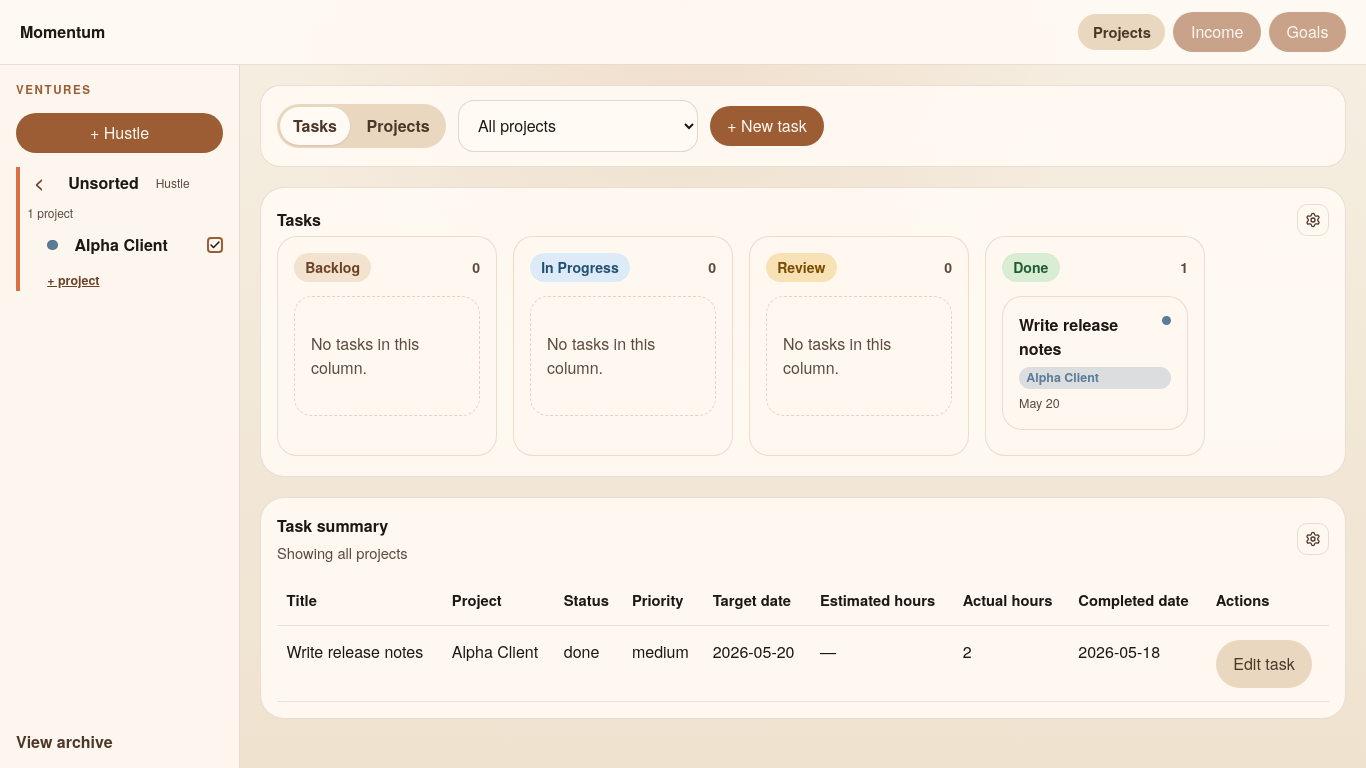
Test: Ticket 1b-8 owner UI polish › expanded time log with no notes shows muted No notes placeholder
The image size is (1366, 768).
What coordinates should you click on to do the following:
click the button "Edit task"
I would click on:
 (1264, 664)
Its box is [1216,640,1312,688].
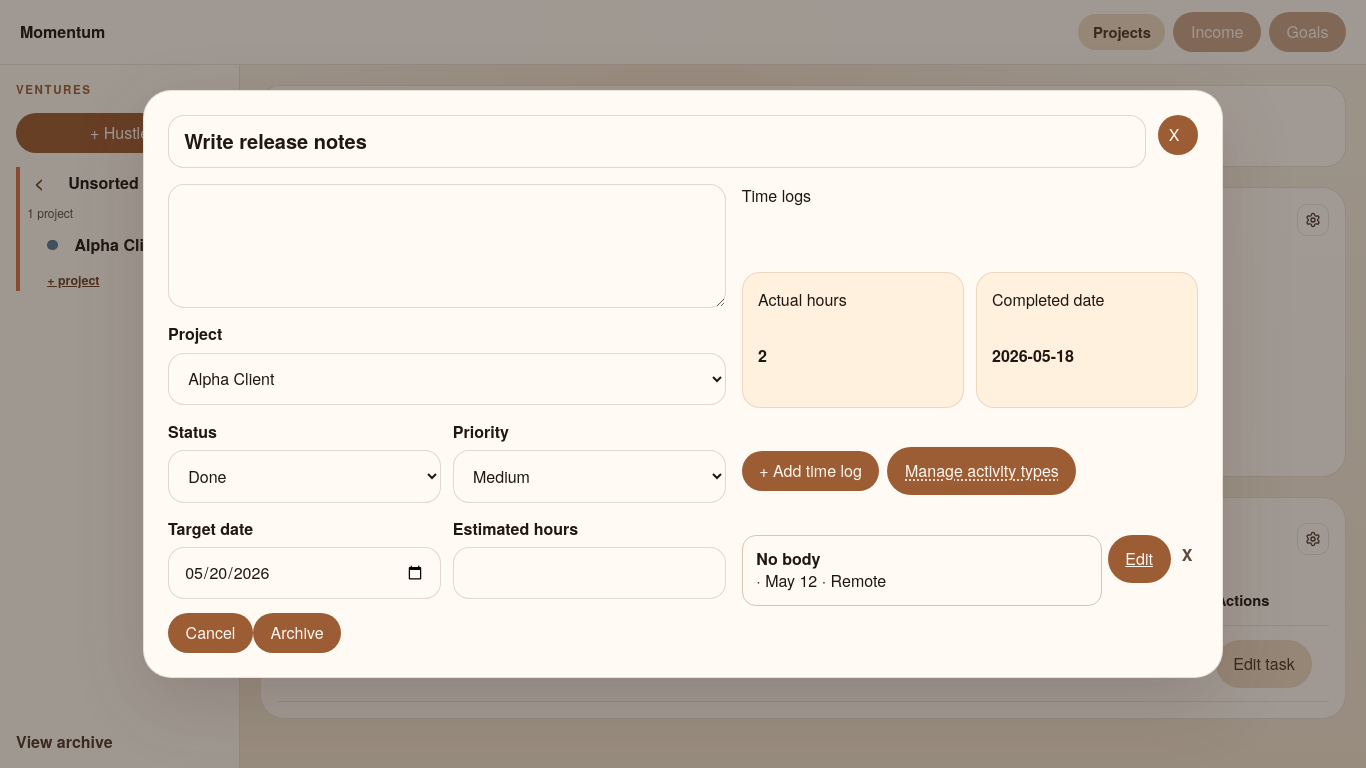
What coordinates should you click on to do the following:
click the button with test id "time-log-row-log-empty-notes"
I would click on:
 (788, 559)
Its box is [742,535,1102,606].
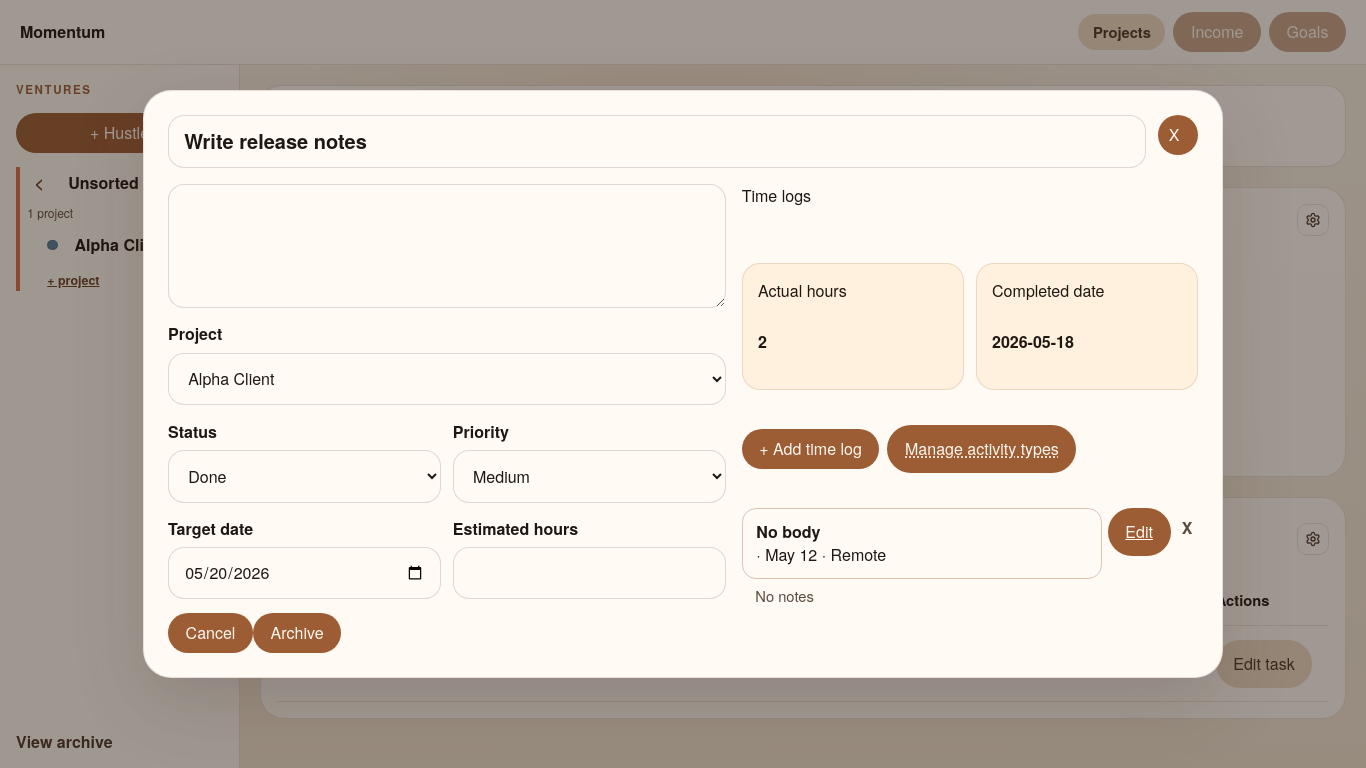
Expected: the text with test id "time-log-detail-log-empty-notes" reads "No notes", [755,585,814,606]
